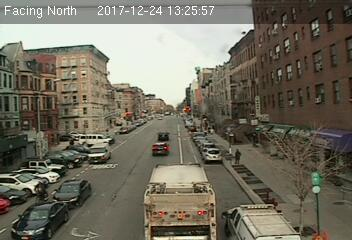bicycle: (30, 181, 52, 205)
car: (10, 200, 70, 240), (53, 179, 91, 206), (204, 147, 223, 164), (150, 142, 169, 154), (155, 129, 169, 140)
truck: (143, 162, 219, 240), (221, 201, 296, 240), (87, 142, 110, 163)
